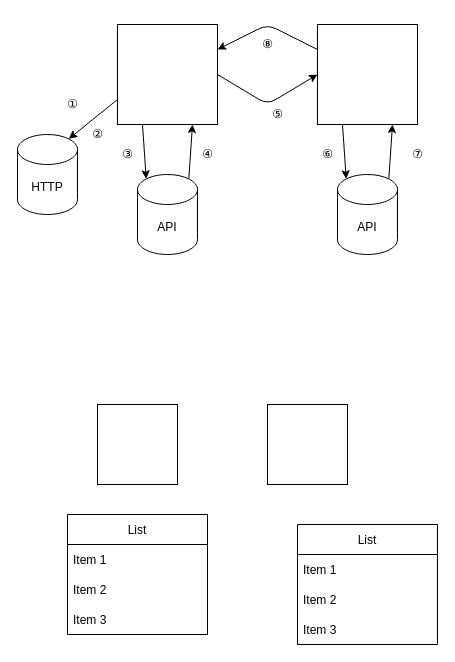
Image size: 455x662. Some labels were removed from this diagram. Here are the shapes that lost their labels. From the top down, the box of each, then its label:
(116, 24, 218, 124): Start画面
(316, 24, 418, 124): Chat画面
